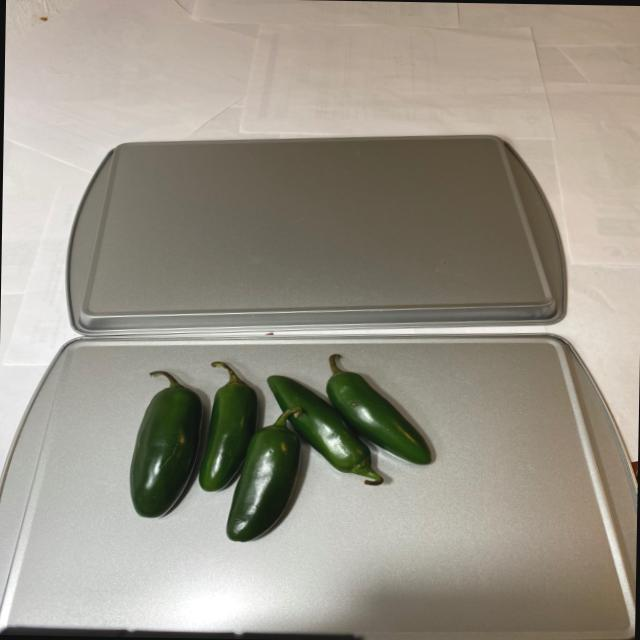chilli: (103, 350, 446, 550)
